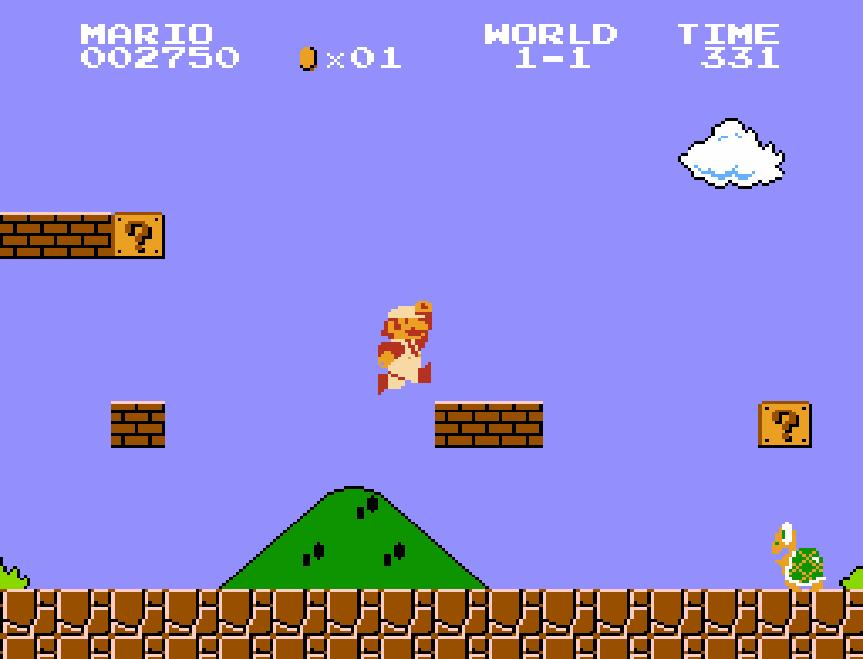fire_mario: (376, 298, 434, 396)
